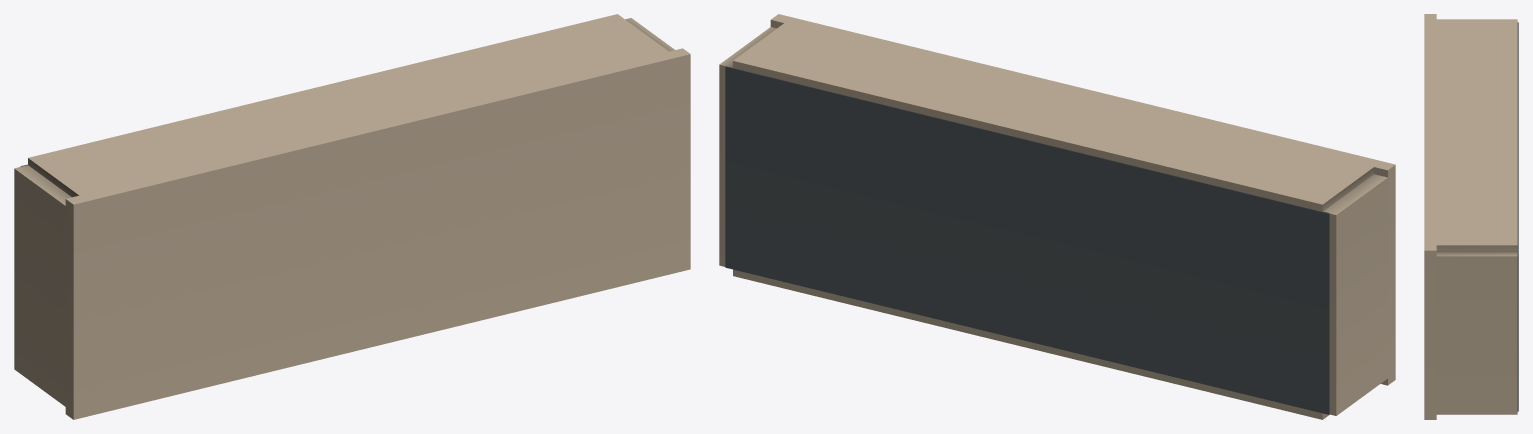
File: stuffed_pike.glb
3 renders of one model, left to right at view 1: azimuth 30°, elevation 25°; view 2: azimuth 150°, elevation 25°; view 3: azimuth 270°, elevation 25°, orthographic. The views are drawn at different scales.
Parts seen in each view (by area): view 1: static; view 2: static; view 3: static.
Part boxes in pixels (<box>): static: <box>14,14,690,419</box>; static: <box>719,14,1395,419</box>; static: <box>1424,14,1518,419</box>.
Size of the model in its own units: 0.9 by 0.3 by 0.1515.
